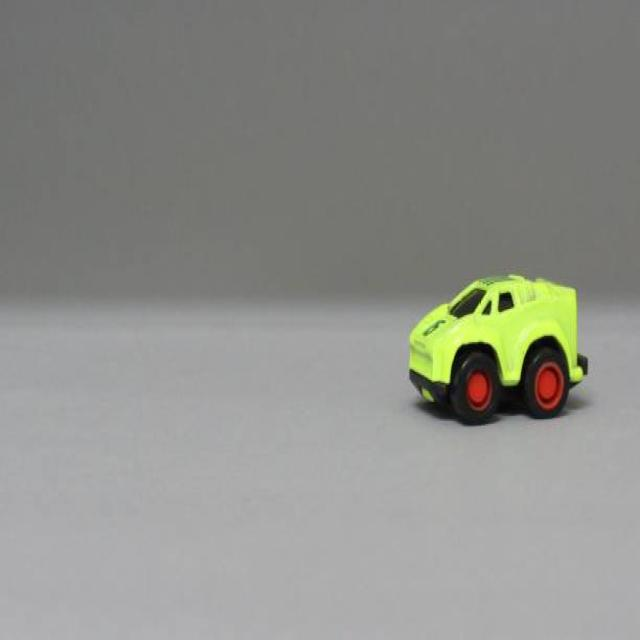Car: (408, 271, 588, 424)
